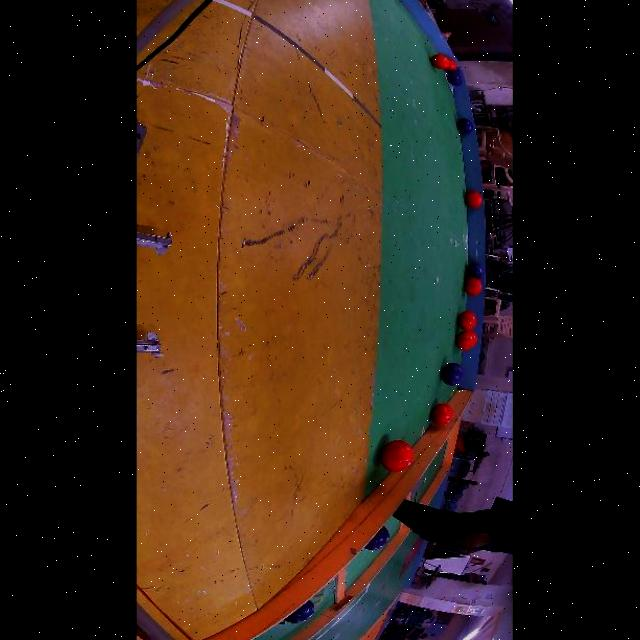P: (365, 527, 389, 550), (440, 362, 463, 385), (466, 262, 483, 279), (457, 117, 474, 133), (448, 76, 462, 86), (448, 68, 461, 76)
R: (380, 440, 414, 472), (431, 404, 453, 425), (455, 330, 474, 351), (458, 311, 476, 330), (465, 278, 482, 296), (431, 53, 450, 69), (466, 191, 483, 208), (446, 59, 457, 70), (470, 330, 478, 344)
